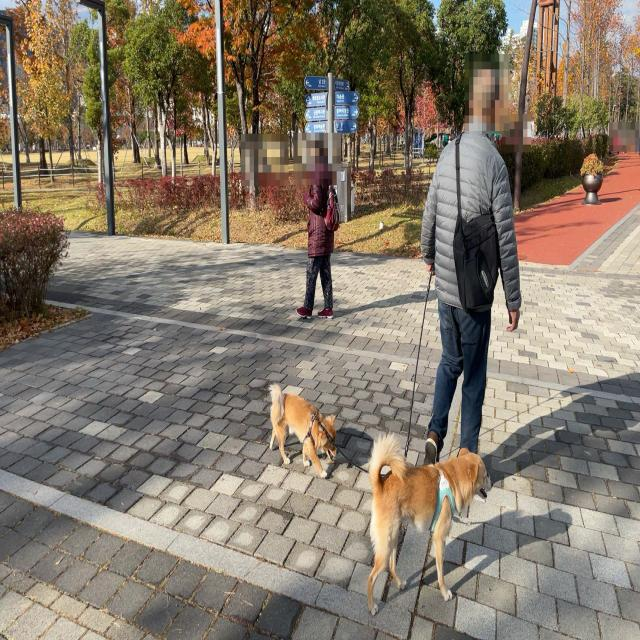Leashed_Dog: (367, 252, 493, 617), (269, 243, 450, 481)
